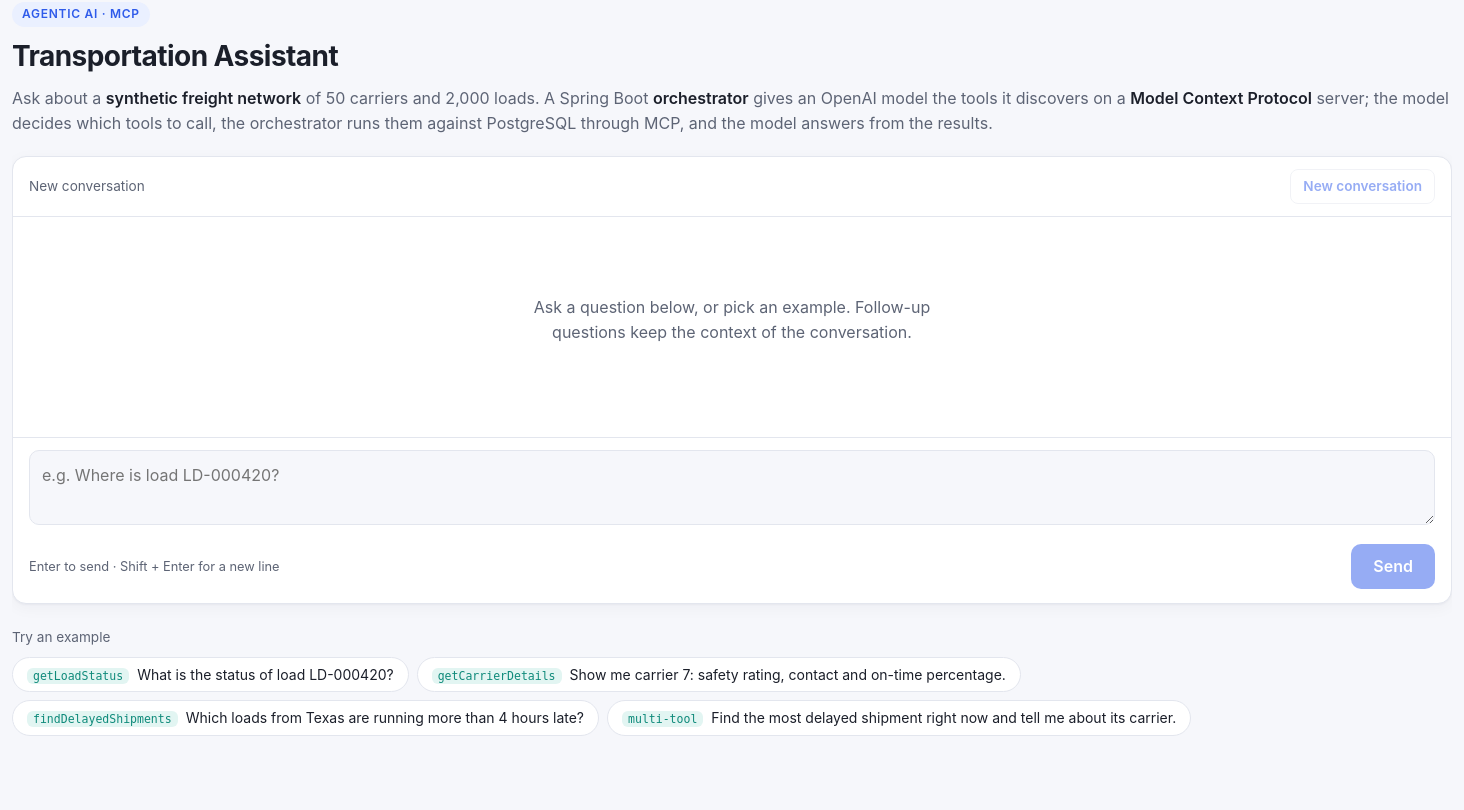
Test: TransportationAssistant › shows a loading state and ignores duplicate submissions while waiting
The image size is (1464, 810).
Type "Slow question" into the text box named "message the transportation assistant".
click(732, 487); type("Slow question")  # box left=29, top=450, right=1435, bottom=525
Then press Enter
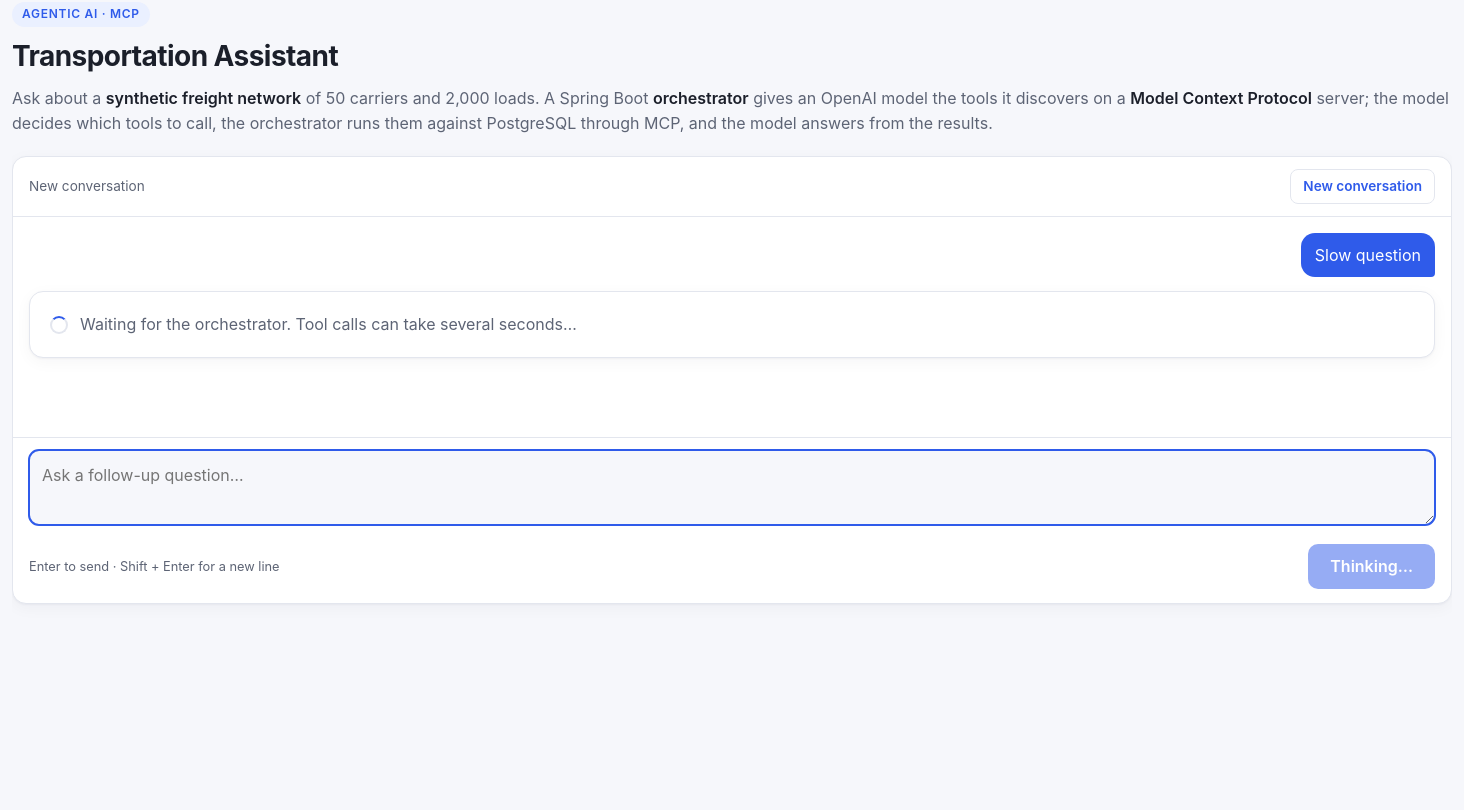
Expected: the button "Thinking…" is disabled, left=1308, top=544, right=1435, bottom=589
Expected: the text "Waiting for the orchestrator" is shown, left=80, top=314, right=577, bottom=334
Type "Second question" into the text box named "message the transportation assistant".
click(732, 487); type("Second question")  # box left=29, top=450, right=1435, bottom=525
Then press Enter
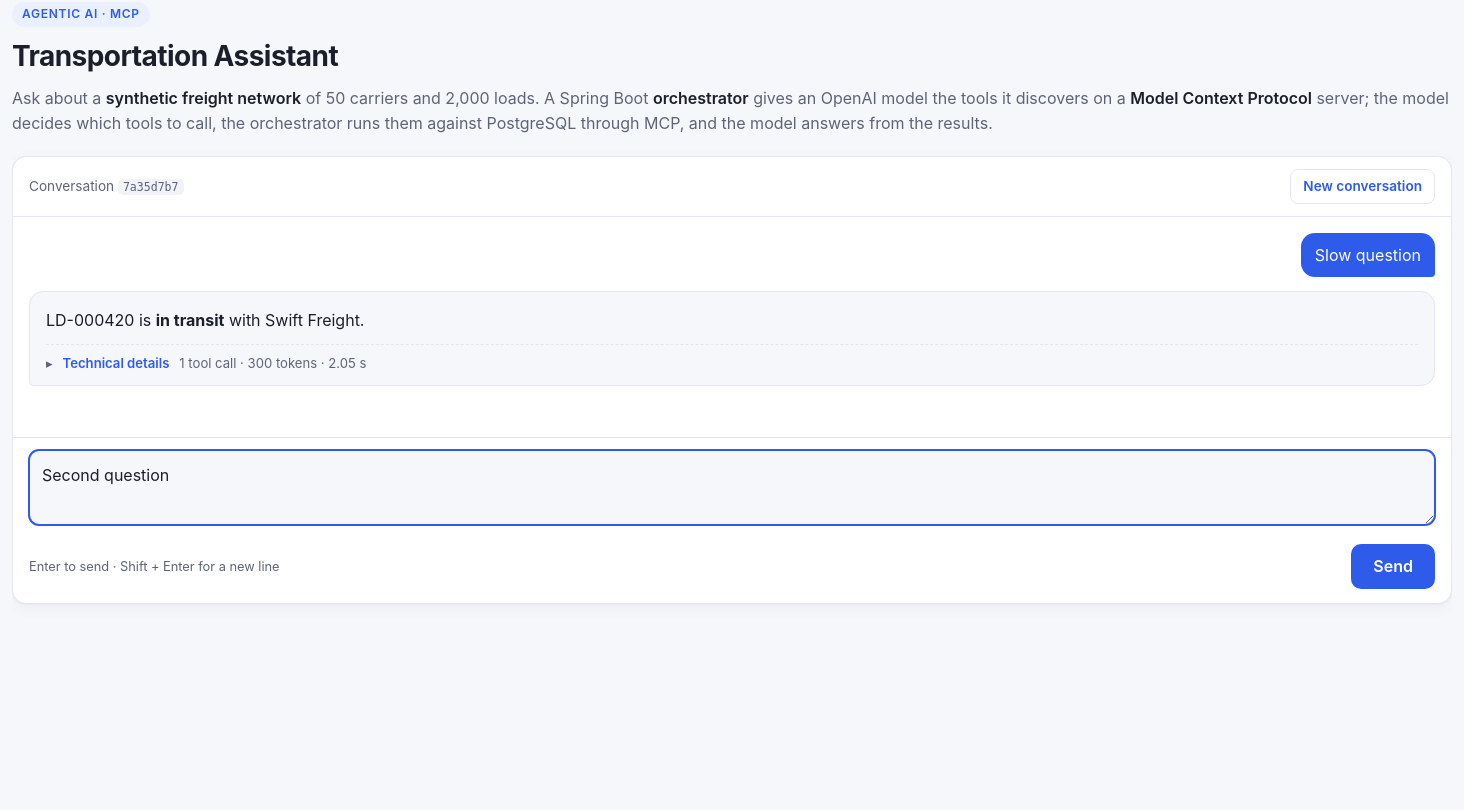
Expected: the text "in transit" is shown, left=156, top=310, right=224, bottom=330
Expected: the text "Waiting for the orchestrator" is gone
